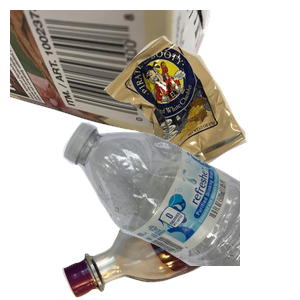cardboard: (10, 10, 213, 146)
glass: (60, 180, 300, 300)
plastic: (60, 120, 300, 300)
trash: (101, 33, 300, 206)
